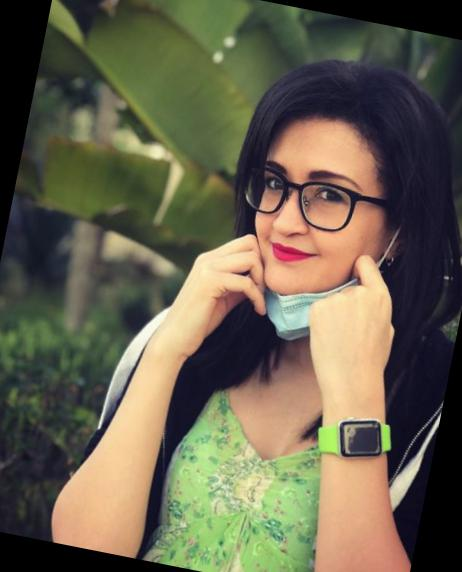mask_weared_incorrect: (235, 151, 384, 348)
